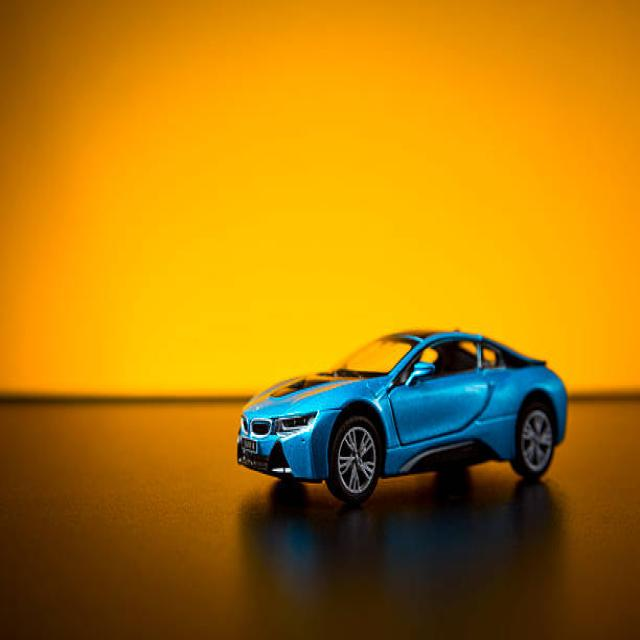Car: (236, 327, 568, 505)
